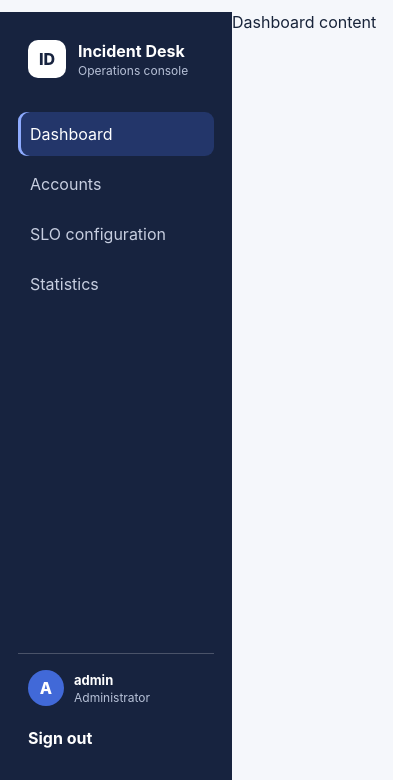
Administrator shell navigation › does not expose internal audit records as a navigation destination
This screenshot has width=393, height=780.
Expected: the navigation bar shows "Dashboard", [18, 112, 214, 156]
Click the button "Statistics": (116, 284) [18, 262, 214, 306]
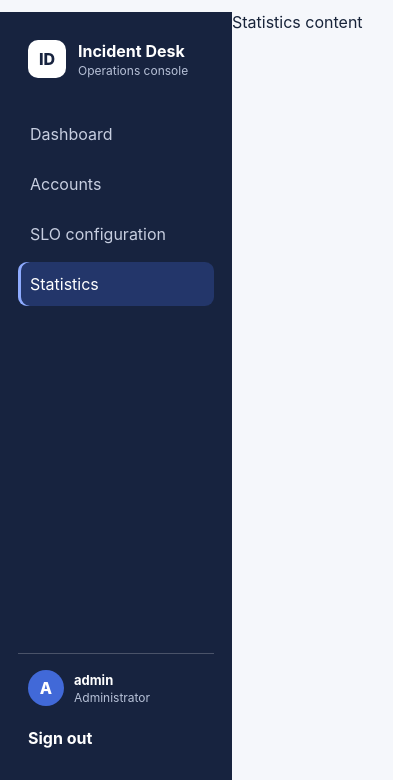
Now the text "Statistics content" is shown, box [232, 12, 363, 32]
